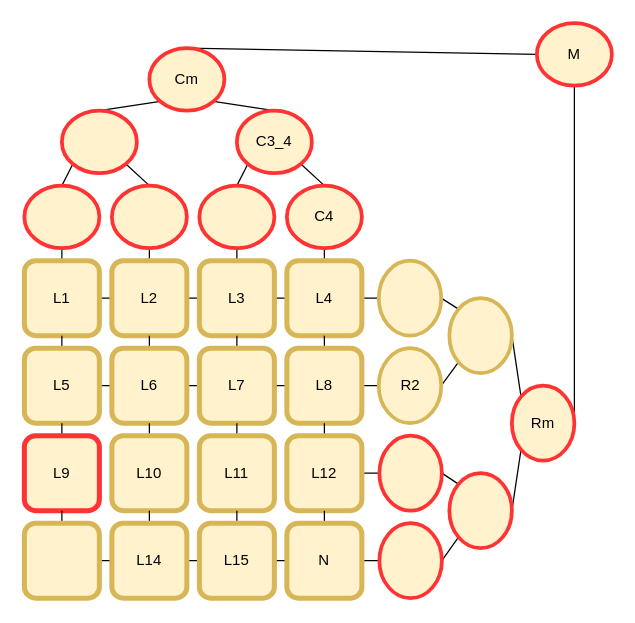
The diagram is 635 pixels wide and 623 high, and some of its shapes have lost their labels. The box of each missing label's shape, as (x1, y1, x2, y2) in pixels:
C1: (22, 183, 101, 249)
C1_2: (59, 108, 138, 174)
C2: (109, 183, 188, 249)
C3: (197, 183, 276, 249)
L13: (21, 520, 101, 600)
R1: (376, 258, 442, 337)
R1_2: (447, 296, 513, 374)
R3: (377, 433, 443, 512)
R3_4: (447, 471, 513, 549)
R4: (377, 521, 443, 599)
